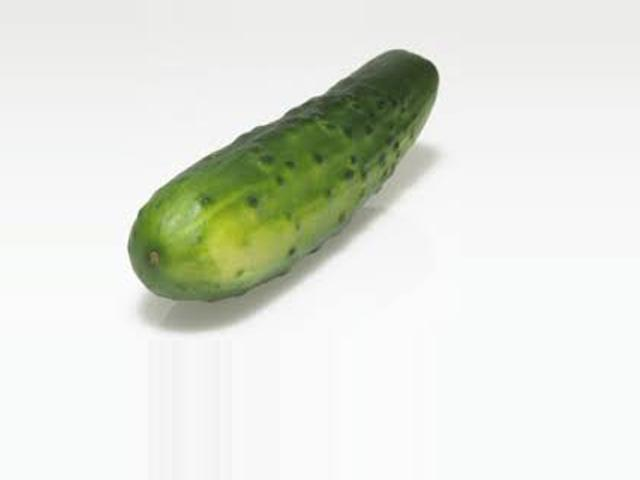cucumber: (130, 50, 439, 298)
